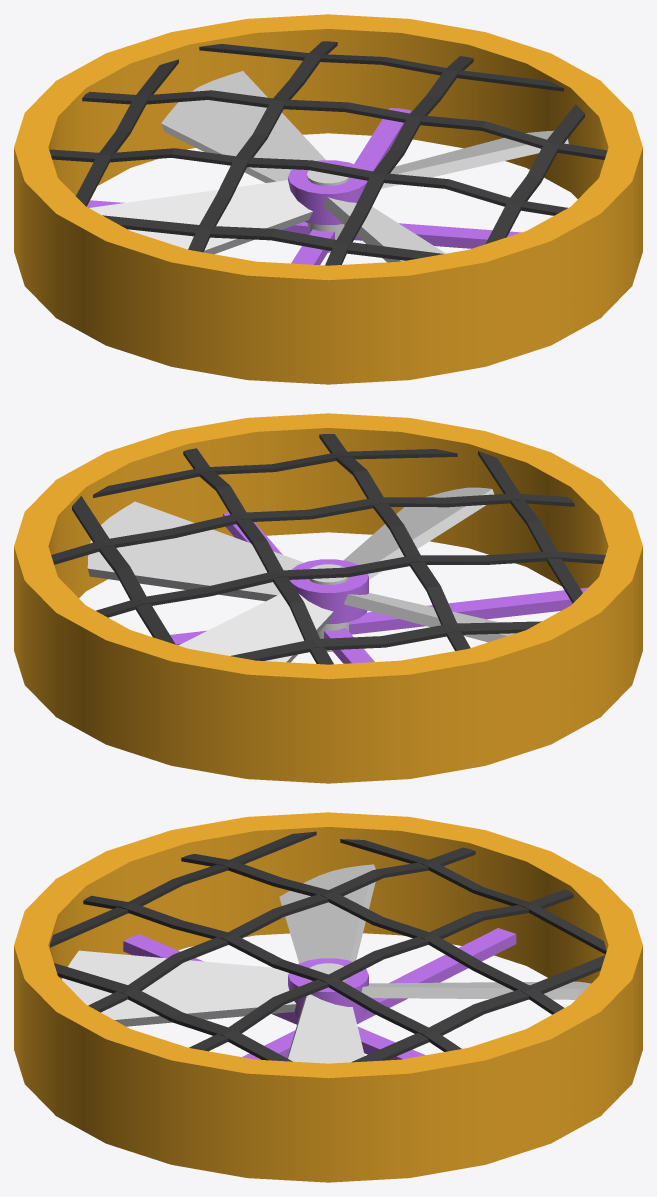
File: Ventilator A.fbx
3 views of the same model, one above another, from view 1: azimuth 30°, elevation 25°; view 2: azimuth 150°, elevation 25°; view 3: azimuth 270°, elevation 25° (orthographic).
Visible parts, largest first — view 1: Ventilator A, Grid Ventilator A, Ventilator A.001; view 2: Ventilator A, Grid Ventilator A, Ventilator A.001; view 3: Ventilator A, Grid Ventilator A, Ventilator A.001.
Boxes of the visible parts, x1,y1,x2,y2 form: Ventilator A: (14,14,642,384); Grid Ventilator A: (49,41,607,265); Ventilator A.001: (89,71,568,262); Ventilator A: (14,413,642,783); Grid Ventilator A: (51,434,605,664); Ventilator A.001: (87,487,515,662); Ventilator A: (14,812,642,1182); Grid Ventilator A: (50,831,606,1062); Ventilator A.001: (62,864,590,1063).
Bounding box in the file's own units: 177 × 36.4 × 177.
